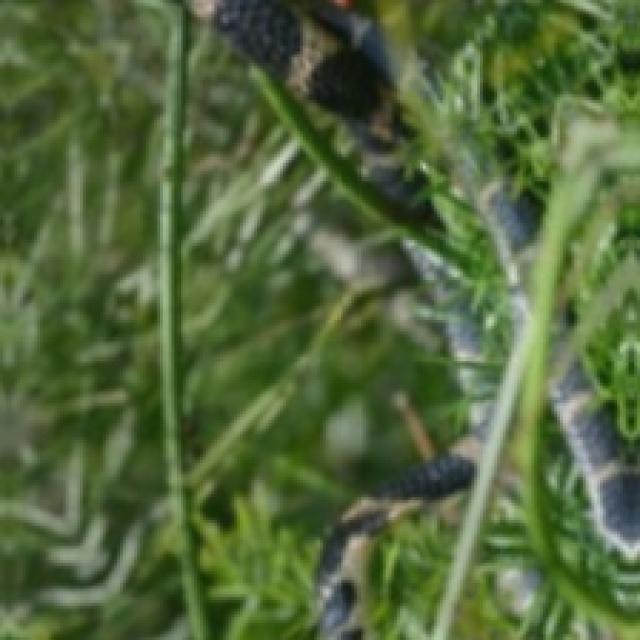king cobra: (321, 310, 491, 639), (192, 0, 401, 191), (550, 364, 640, 559), (490, 190, 534, 260), (409, 242, 452, 279)
